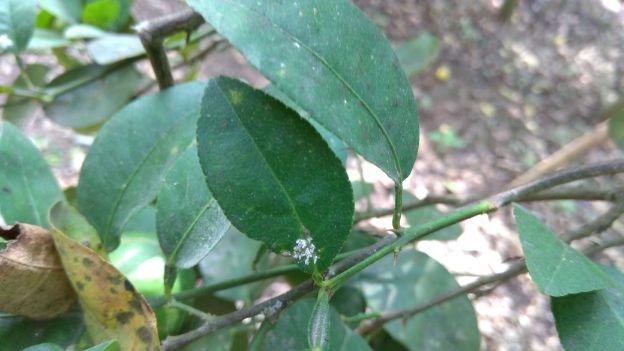Myzus persicae: (292, 238, 318, 264)
